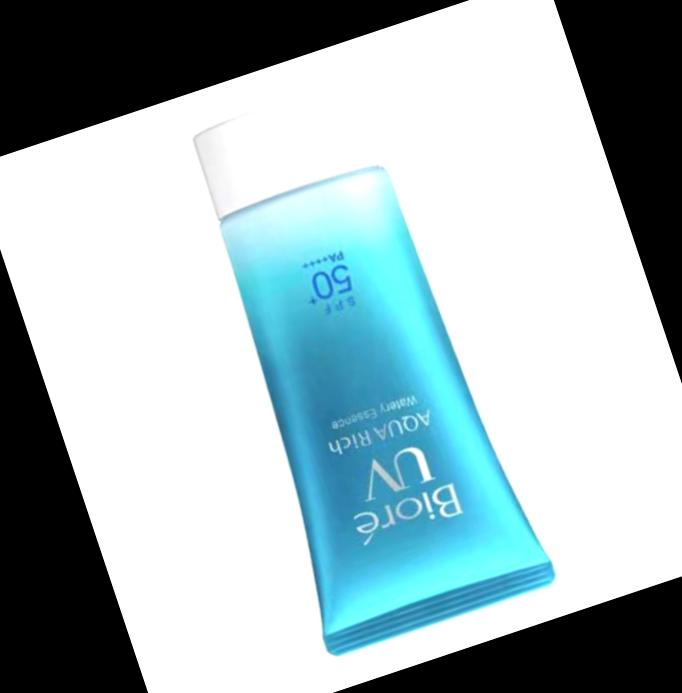cosmetic: (155, 64, 561, 661)
